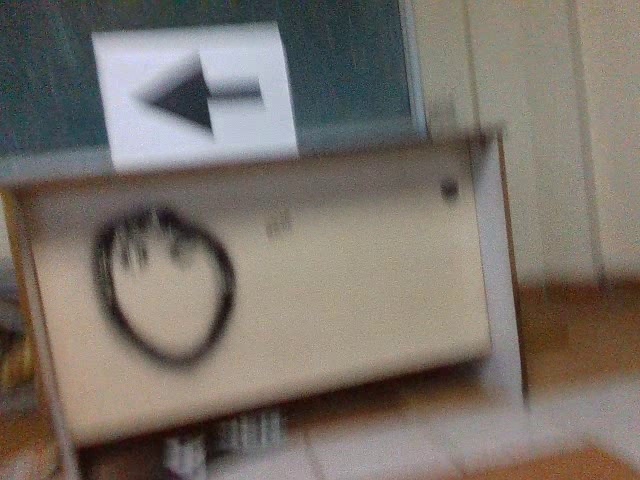Left: (131, 47, 274, 143)
